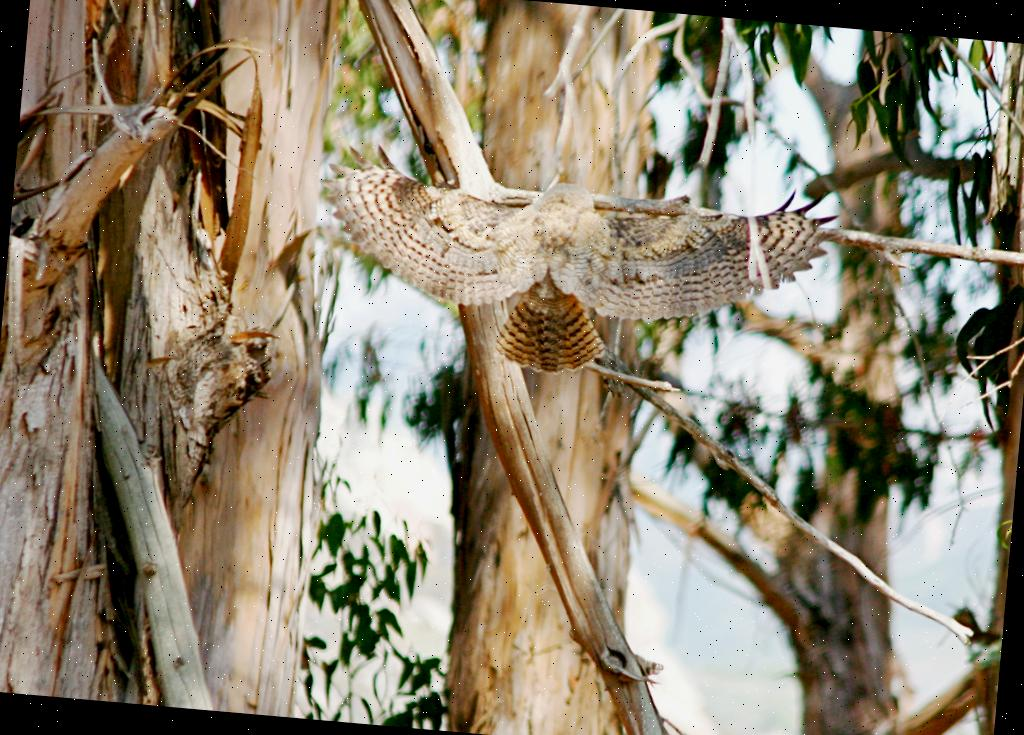Owl: (297, 138, 845, 406)
